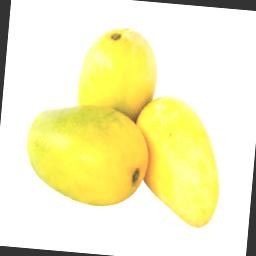Mango Ripe: (16, 92, 158, 214), (141, 78, 238, 246), (66, 17, 158, 132)
